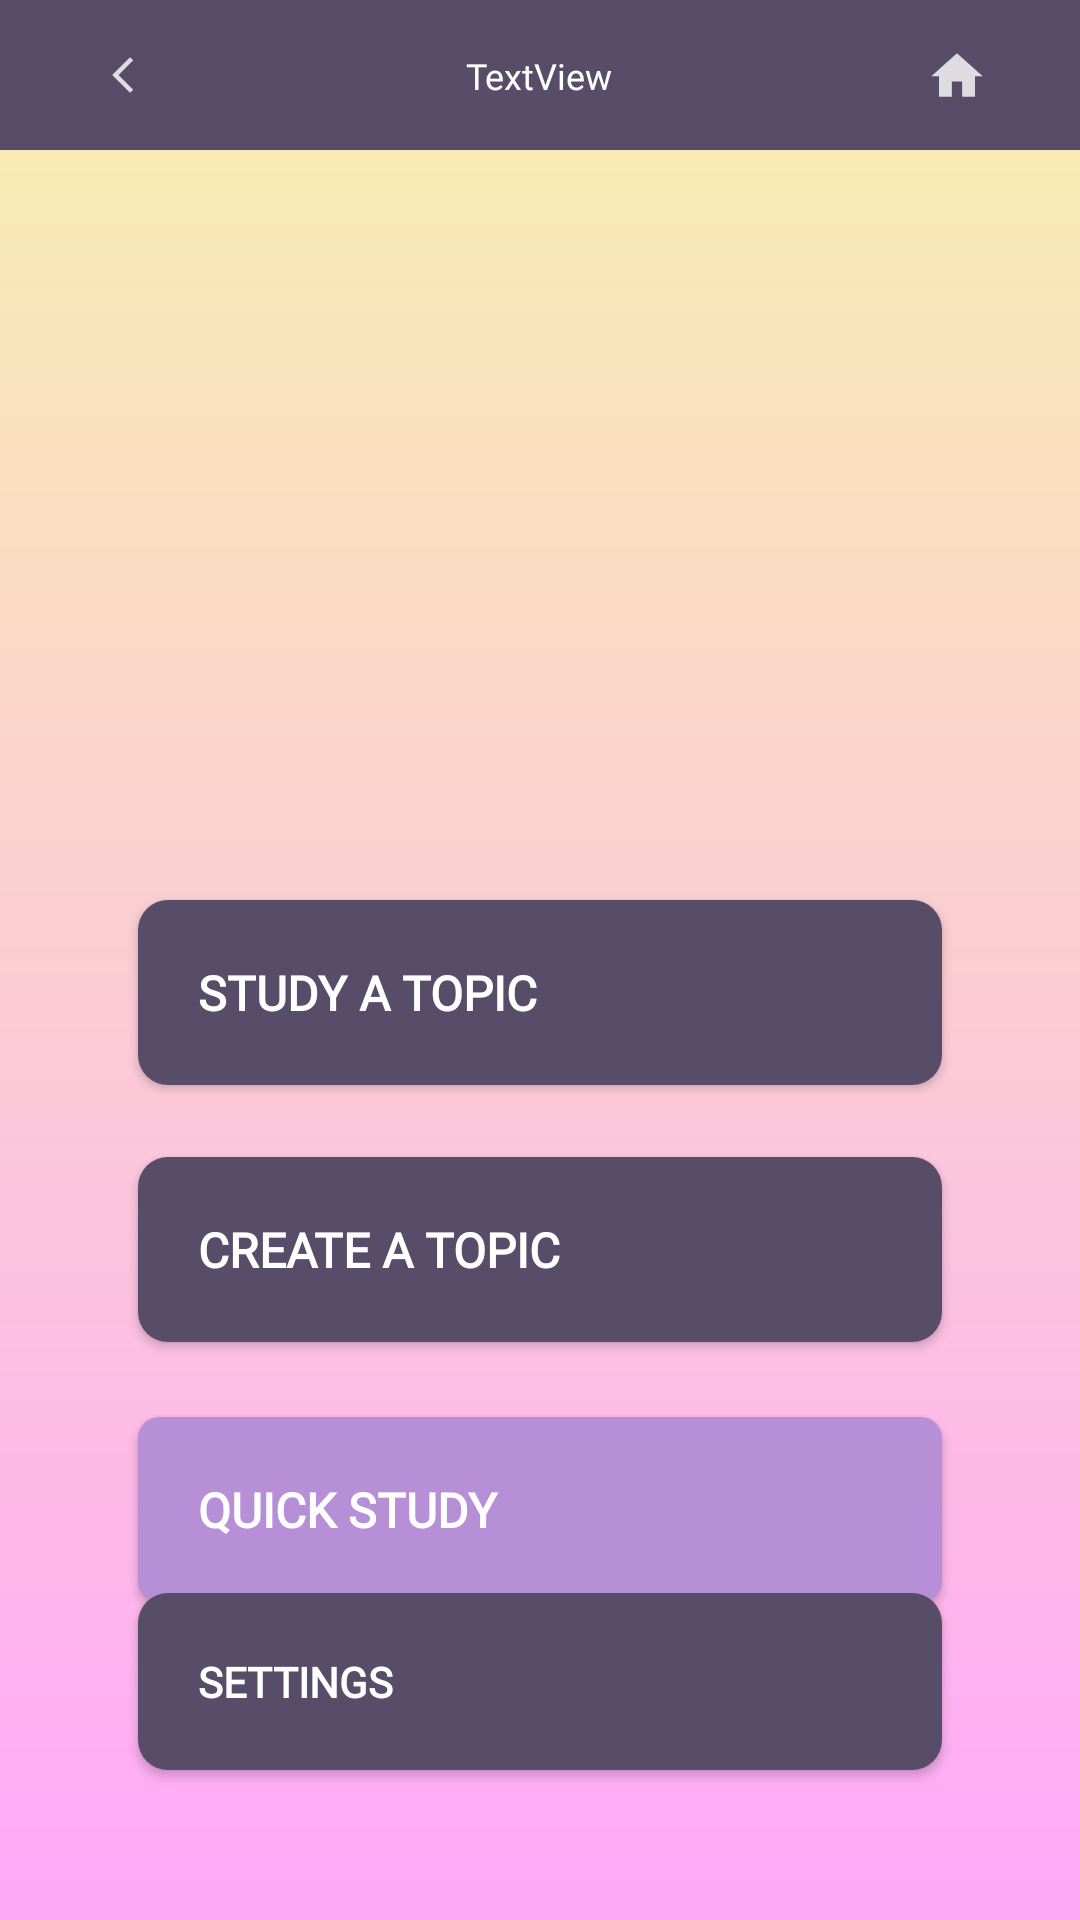

Where icons sit on this 1080 × 1920 app screen, as (x1, y1, x2, y2):
back arrow: (112, 57, 133, 93)
home: (932, 53, 982, 97)
